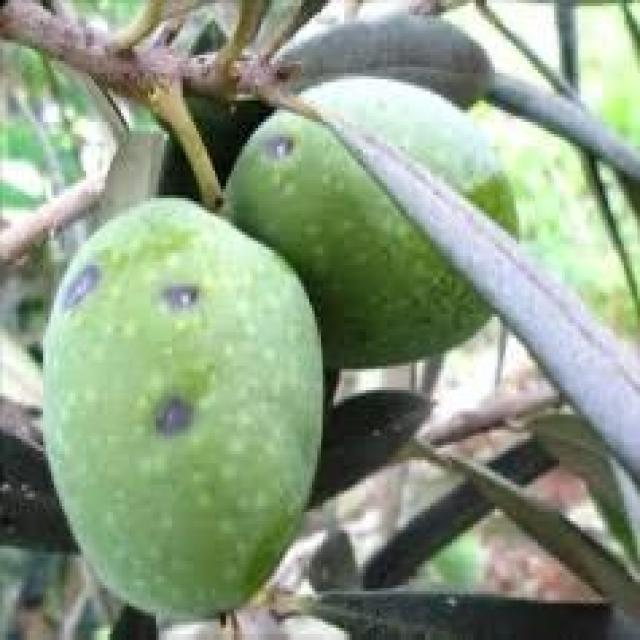Olive Fruit Fly: (46, 198, 320, 616)
